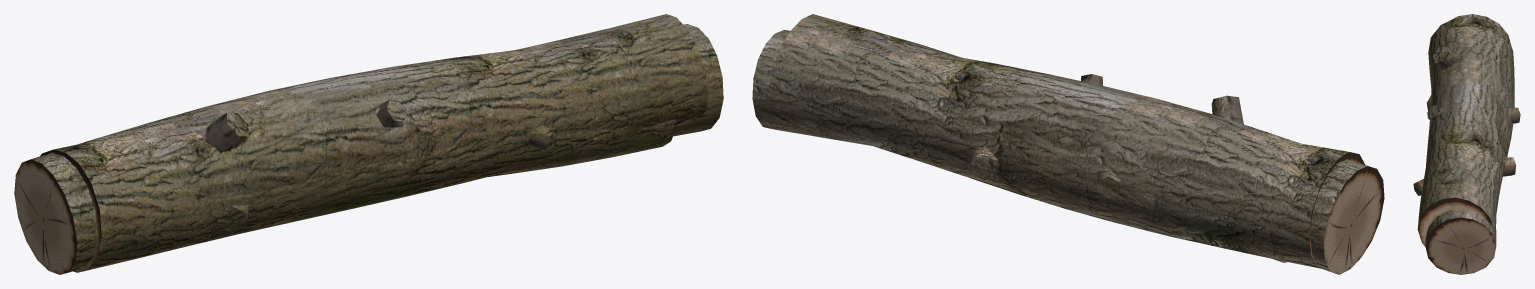
3 renders of one model, left to right at view 1: azimuth 30°, elevation 25°; view 2: azimuth 150°, elevation 25°; view 3: azimuth 270°, elevation 25°, orthographic. The views are drawn at different scales.
Parts seen in each view (by area): view 1: variant_2, variant_0, variant_1; view 2: variant_0, variant_2; view 3: variant_2, variant_0, variant_1.
Part boxes in pixels (x1,y1,x2,y2): variant_2: (14,24,723,274); variant_0: (40,14,708,272); variant_1: (376,99,676,177); variant_0: (769,14,1365,268); variant_2: (752,30,1384,274); variant_2: (1413,14,1520,274); variant_0: (1417,16,1516,246); variant_1: (1427,43,1504,160).
Size of the model in its own units: 1.4 by 0.2875 by 0.326.
Materials: 2 (2 with a texture image).
